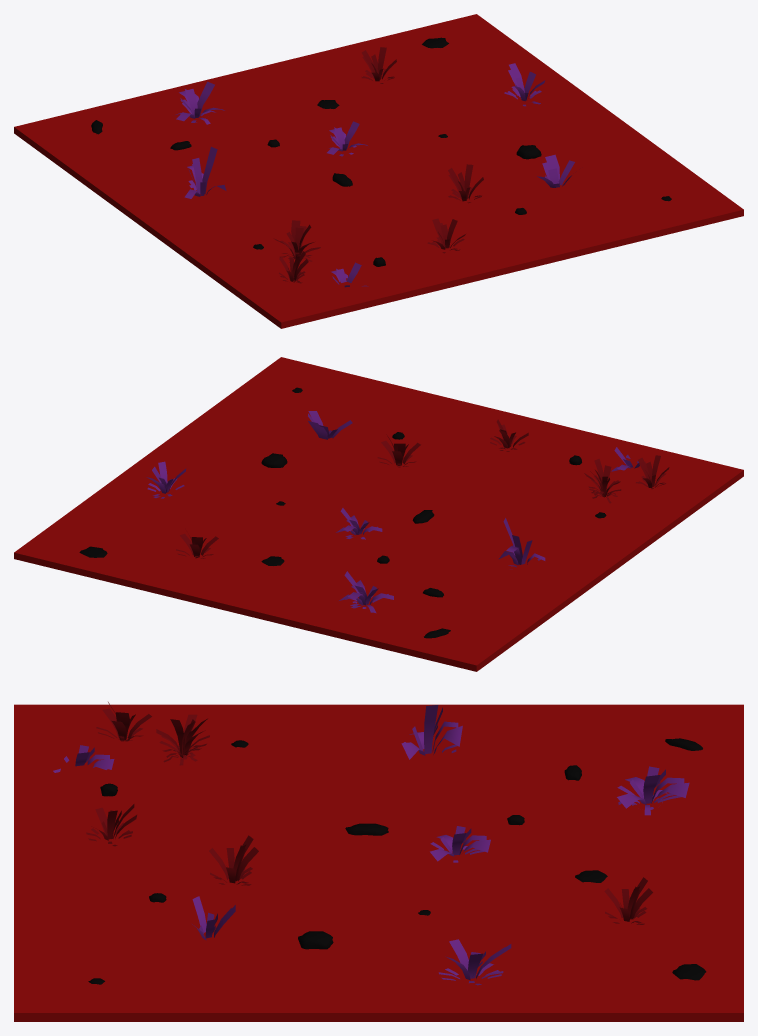
File: Unpurchased Plot1.fbx
3 renders of one model, top to bottom at view 1: azimuth 30°, elevation 25°; view 2: azimuth 150°, elevation 25°; view 3: azimuth 270°, elevation 25°, orthographic. The views are drawn at different scales.
Parts seen in each view (by area): view 1: Cube, GrassBushe3, GrassBushe3.001, GrassBushe2.002, GrassBushe1.001, GrassBushe2.001, GrassBushe1, GrassBushe2, GrassBushe2.003, GrassBushe3.002; view 2: Cube, GrassBushe3, GrassBushe3.001, GrassBushe2.002, GrassBushe1.001, GrassBushe2.001, GrassBushe2.004; view 3: Cube, GrassBushe3, GrassBushe3.001, GrassBushe1.001, GrassBushe2.002, GrassBushe3.002, GrassBushe2.001, GrassBushe2, GrassBushe2.003, GrassBushe2.004, GrassBushe1, GrassBushe3.003 (+1 smaller).
Part boxes in pixels (x1=…): Cube: x1=14, y1=14, x2=743, y2=328; GrassBushe3: x1=175, y1=81, x2=224, y2=124; GrassBushe3.001: x1=184, y1=146, x2=226, y2=198; GrassBushe2.002: x1=273, y1=220, x2=320, y2=262; GrassBushe1.001: x1=504, y1=63, x2=545, y2=106; GrassBushe2.001: x1=448, y1=164, x2=483, y2=203; GrassBushe1: x1=537, y1=154, x2=574, y2=187; GrassBushe2: x1=361, y1=47, x2=396, y2=83; GrassBushe2.003: x1=427, y1=218, x2=465, y2=253; GrassBushe3.002: x1=327, y1=121, x2=367, y2=156; Cube: x1=14, y1=357, x2=743, y2=671; GrassBushe3: x1=339, y1=571, x2=393, y2=613; GrassBushe3.001: x1=498, y1=518, x2=545, y2=569; GrassBushe2.002: x1=584, y1=458, x2=621, y2=503; GrassBushe1.001: x1=146, y1=461, x2=186, y2=498; GrassBushe2.001: x1=377, y1=434, x2=420, y2=467; GrassBushe2.004: x1=636, y1=455, x2=669, y2=488; Cube: x1=14, y1=704, x2=743, y2=1021; GrassBushe3: x1=617, y1=766, x2=689, y2=815; GrassBushe3.001: x1=401, y1=705, x2=462, y2=759; GrassBushe1.001: x1=438, y1=939, x2=511, y2=985; GrassBushe2.002: x1=156, y1=714, x2=209, y2=765; GrassBushe3.002: x1=430, y1=826, x2=490, y2=862; GrassBushe2.001: x1=209, y1=835, x2=258, y2=885; GrassBushe2: x1=604, y1=877, x2=652, y2=924; GrassBushe2.003: x1=86, y1=804, x2=136, y2=846; GrassBushe2.004: x1=96, y1=702, x2=151, y2=741; GrassBushe1: x1=192, y1=896, x2=235, y2=940; GrassBushe3.003: x1=53, y1=745, x2=114, y2=772.
Bounding box in the file's own units: 150 × 20.73 × 150.
